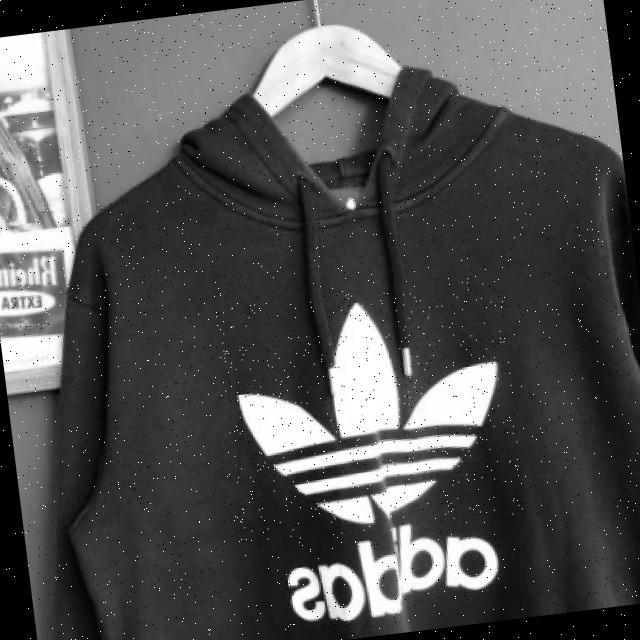Adidas: (214, 274, 527, 548)
